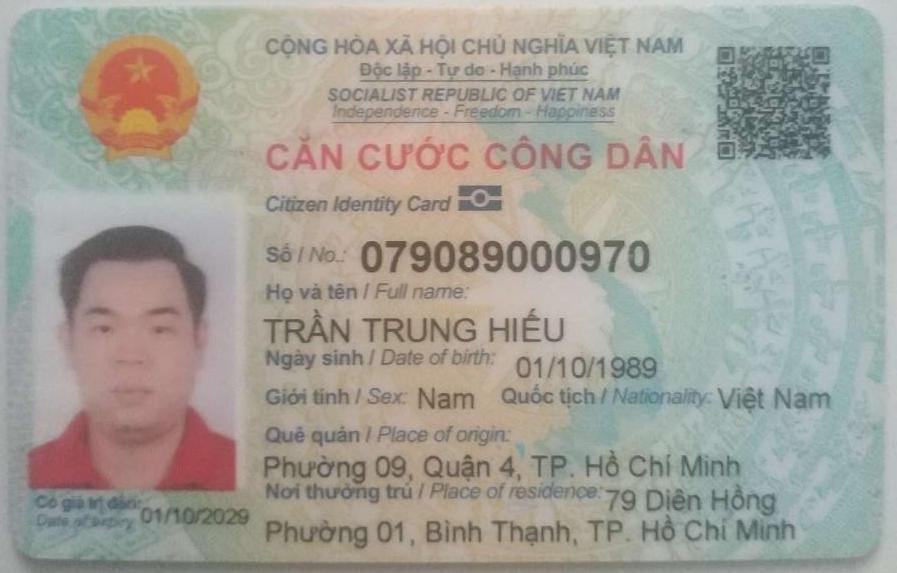ID: (348, 228, 659, 284)
birth: (507, 346, 664, 387)
name: (250, 306, 582, 349)
place: (252, 447, 756, 486)
residence: (259, 510, 804, 554), (599, 478, 782, 517)
